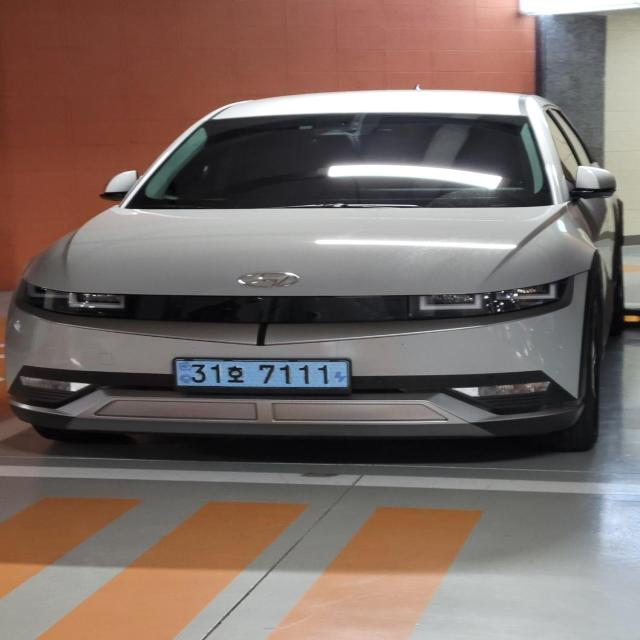EV_plate: (172, 354, 361, 401)
car: (5, 74, 636, 471)
